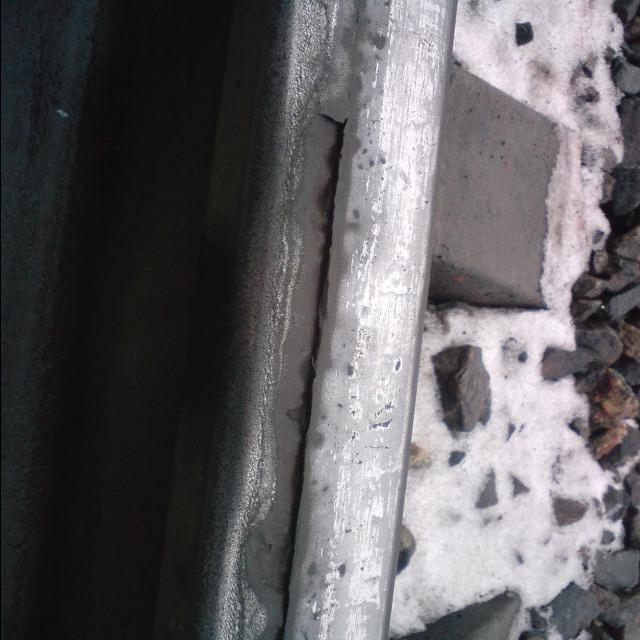broken_rail_medium: (229, 110, 352, 640), (305, 0, 333, 116), (365, 400, 395, 430), (363, 31, 389, 62), (347, 6, 363, 46), (338, 83, 356, 107), (355, 443, 391, 453), (336, 560, 348, 580), (390, 358, 404, 372), (342, 363, 356, 377)
